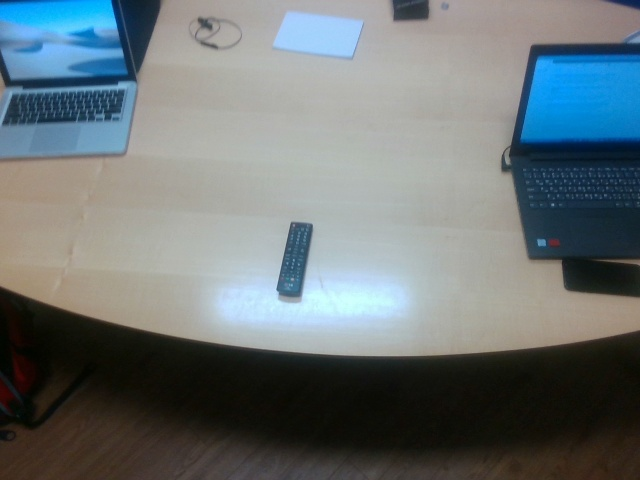remote: (278, 223, 316, 299)
